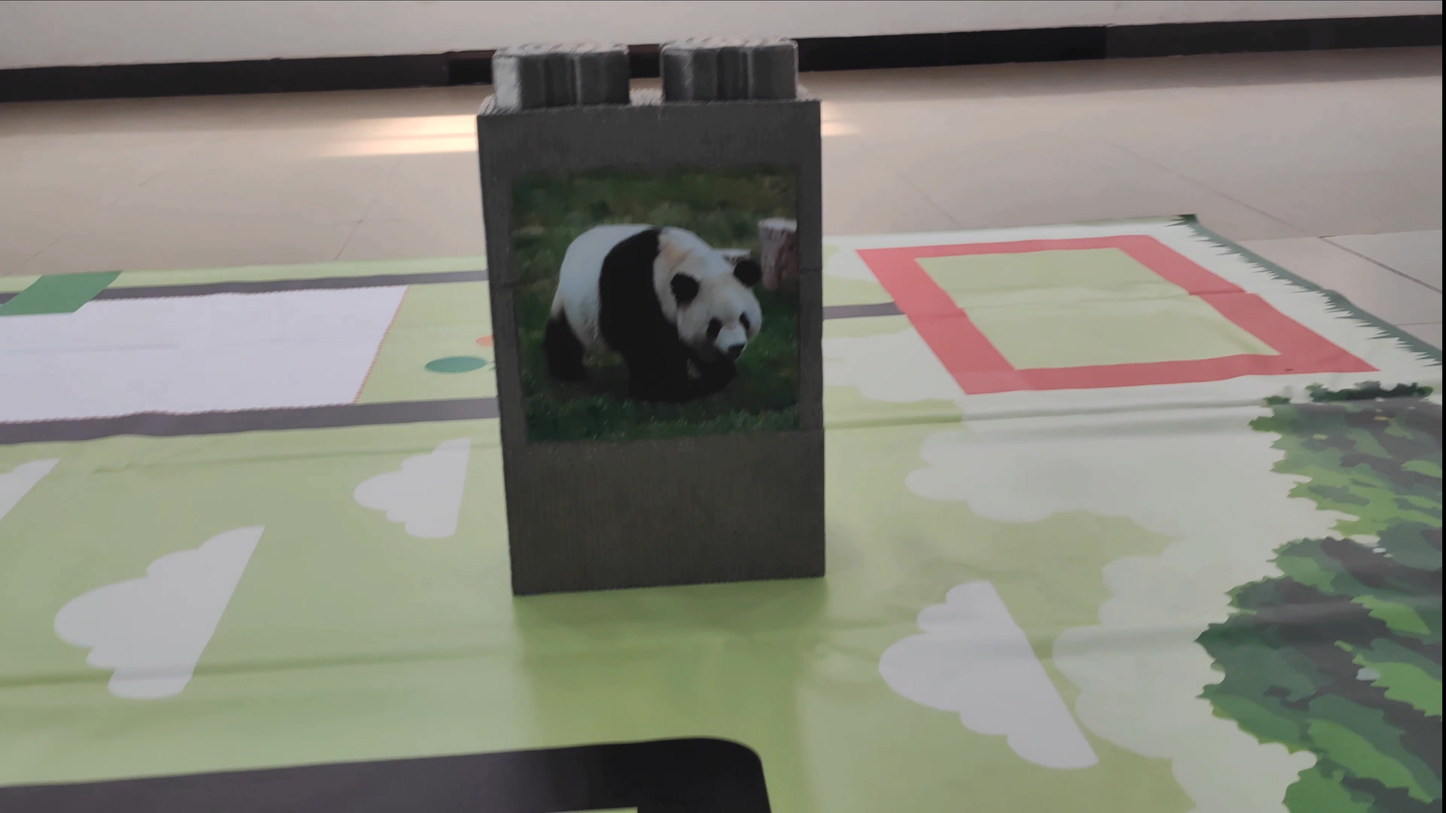panda: (517, 219, 787, 439)
